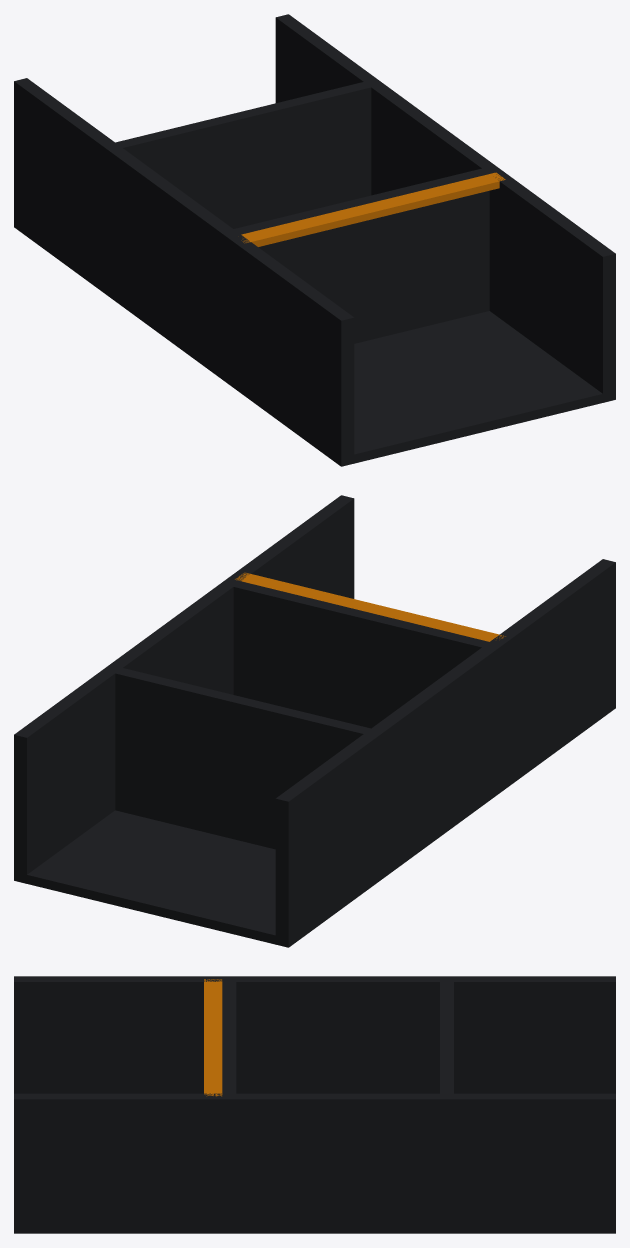
Rendered from tool_rack.obj.
The picture shows the model from 3 angles, top to bottom: view 1: azimuth 30°, elevation 25°; view 2: azimuth 150°, elevation 25°; view 3: azimuth 270°, elevation 25°; orthographic projection. The views are drawn at different scales.
Parts seen in each view (by area): view 1: tool_rack; view 2: tool_rack; view 3: tool_rack.
Boxes of the visible parts, box(x1,y1,x2,y2) form: tool_rack: box(14, 14, 615, 466); tool_rack: box(14, 495, 615, 947); tool_rack: box(14, 976, 615, 1233).
Bounding box in the file's own units: 0.63 × 0.32 × 1.3.
